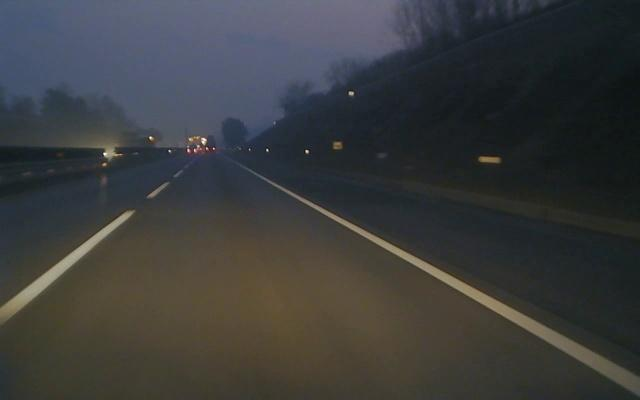lane: (241, 165, 640, 398), (0, 165, 191, 325)
